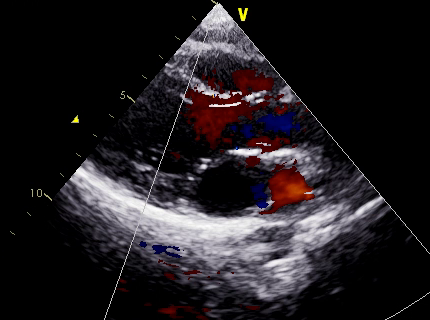AR: (190, 101, 254, 156)
